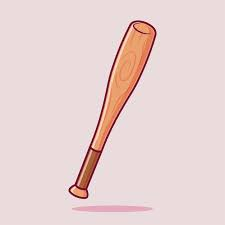baseball bat: (68, 18, 157, 198)
